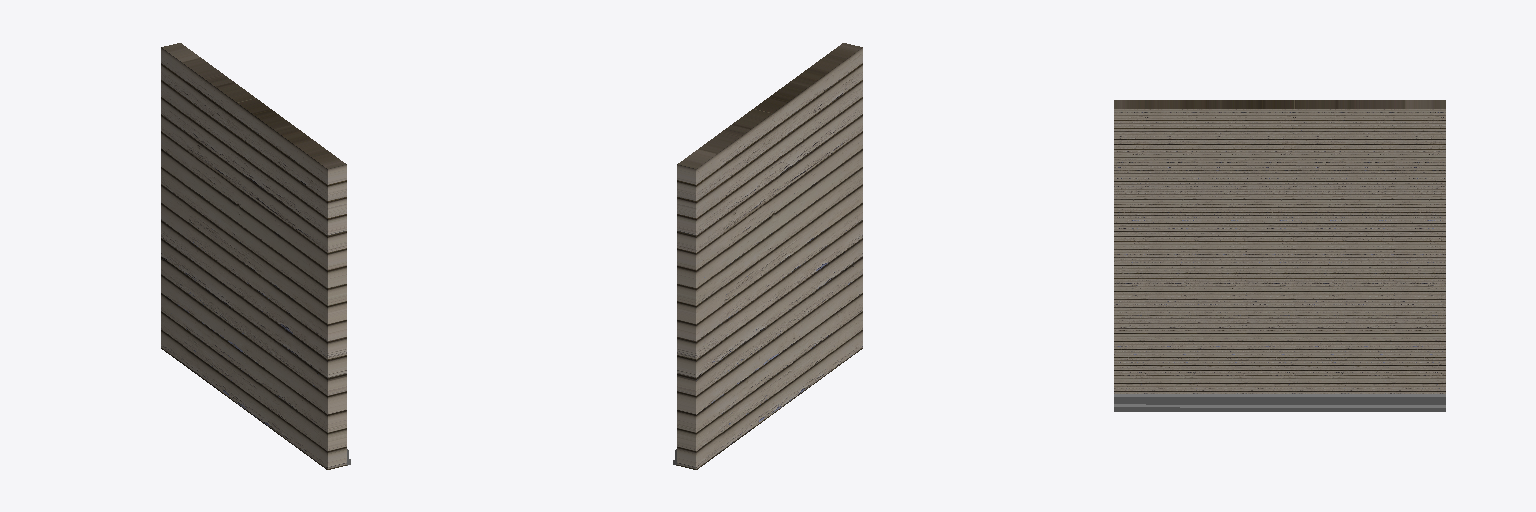
3 renders of one model, left to right at view 1: azimuth 30°, elevation 25°; view 2: azimuth 150°, elevation 25°; view 3: azimuth 270°, elevation 25°, orthographic.
Visible parts, largest first — view 1: pCube1; view 2: pCube1; view 3: pCube1.
Boxes of the visible parts, <box> form: pCube1: <box>161,43,350,469</box>; pCube1: <box>673,43,862,469</box>; pCube1: <box>1114,100,1445,411</box>.
Size of the model in its own units: 24.21 by 300 by 300.
Materials: 2 (1 with a texture image).